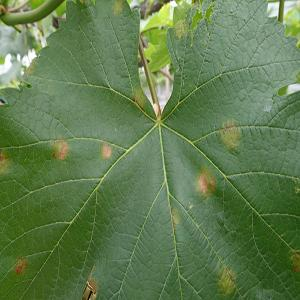Folha: (0, 0, 299, 299)
Fungo: (219, 118, 241, 154), (216, 264, 236, 296), (50, 139, 68, 161), (173, 18, 187, 39), (14, 256, 27, 274), (198, 170, 208, 193), (170, 205, 181, 225), (289, 251, 299, 272), (112, 0, 124, 15), (101, 143, 111, 159), (211, 177, 215, 190)
